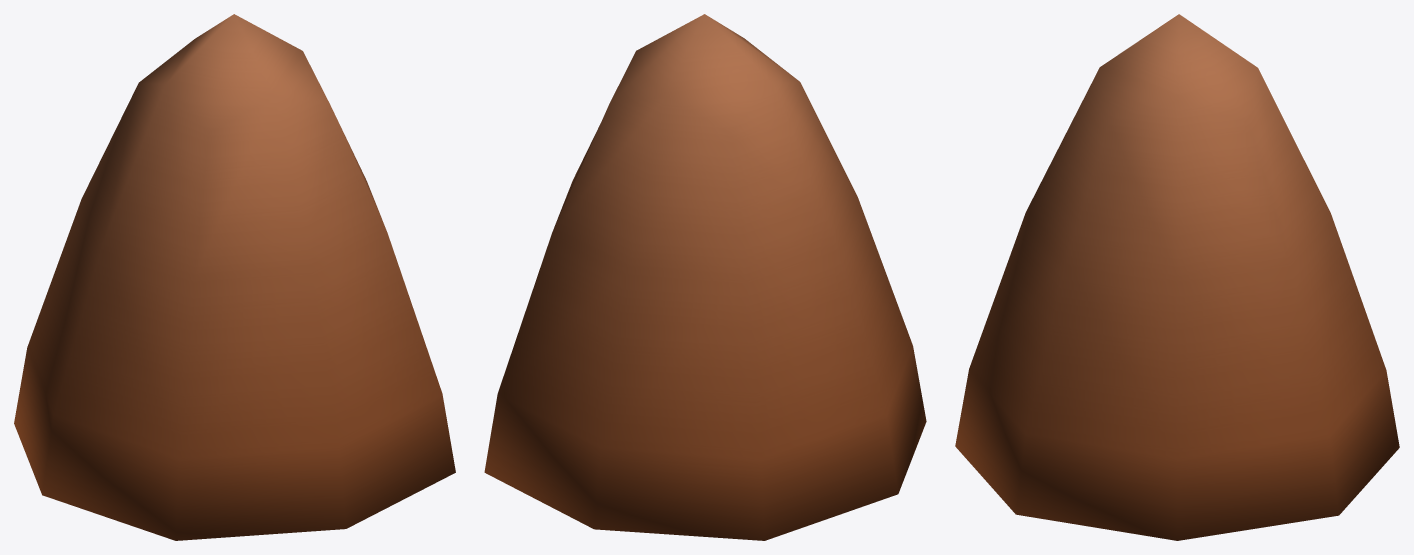
Rendered from Spike.fbx.
The picture shows the model from 3 angles, left to right: view 1: azimuth 30°, elevation 25°; view 2: azimuth 150°, elevation 25°; view 3: azimuth 270°, elevation 25°; orthographic projection.
Visible parts, largest first — view 1: Spike.001; view 2: Spike.001; view 3: Spike.001.
Boxes of the visible parts, bbox=[...] form: Spike.001: bbox=[14, 14, 455, 540]; Spike.001: bbox=[484, 14, 926, 540]; Spike.001: bbox=[955, 14, 1399, 540].
Bounding box in the file's own units: 95.99 × 108 × 95.99.
